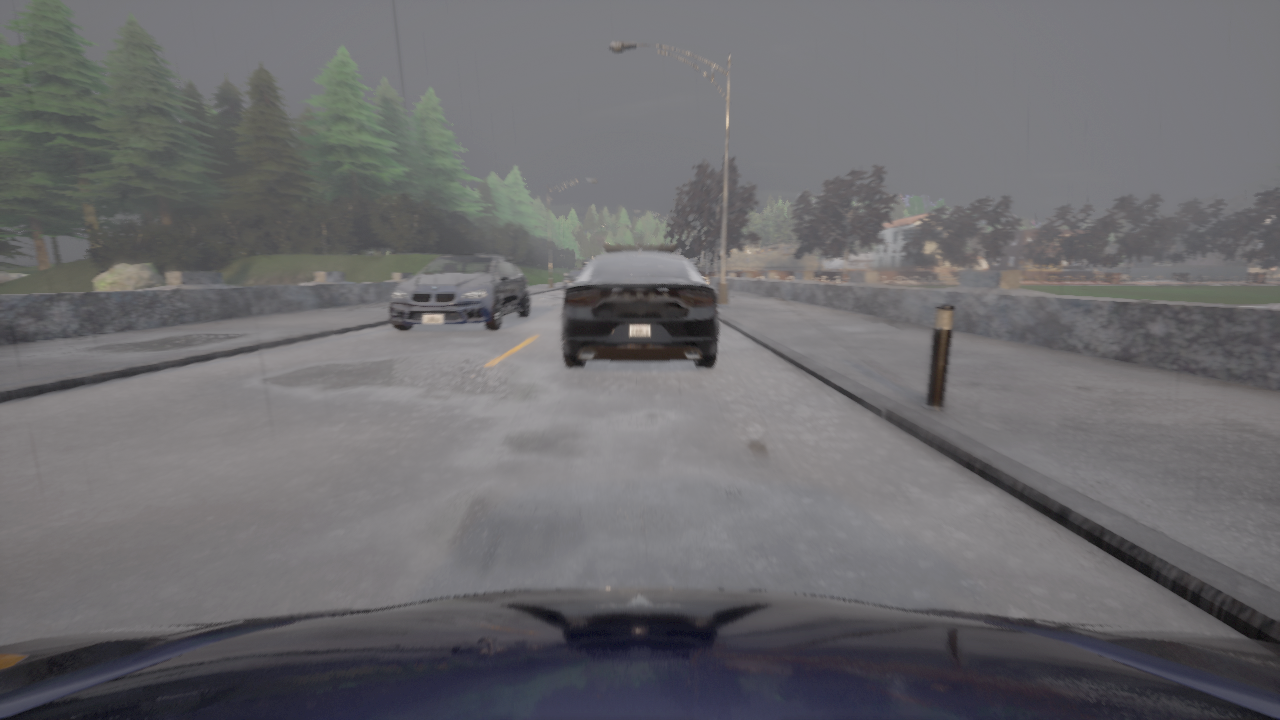cyclist: (0, 588, 1279, 719), (561, 244, 718, 368), (388, 255, 530, 330), (563, 269, 583, 291)
